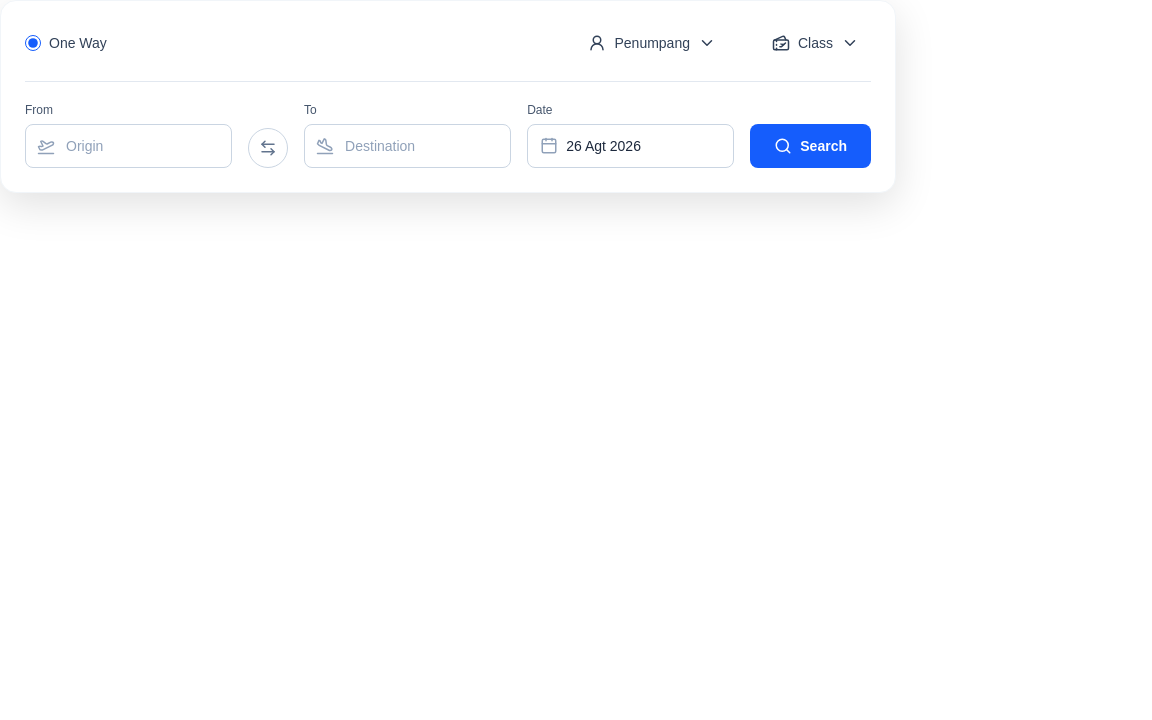
Scenario: InputFlight (flight) › opens the passenger panel and closes it via the backdrop
Expected: the text "Atur Penumpang" is not shown
Click the button "Penumpang": {"x": 652, "y": 43} [576,25,728,61]
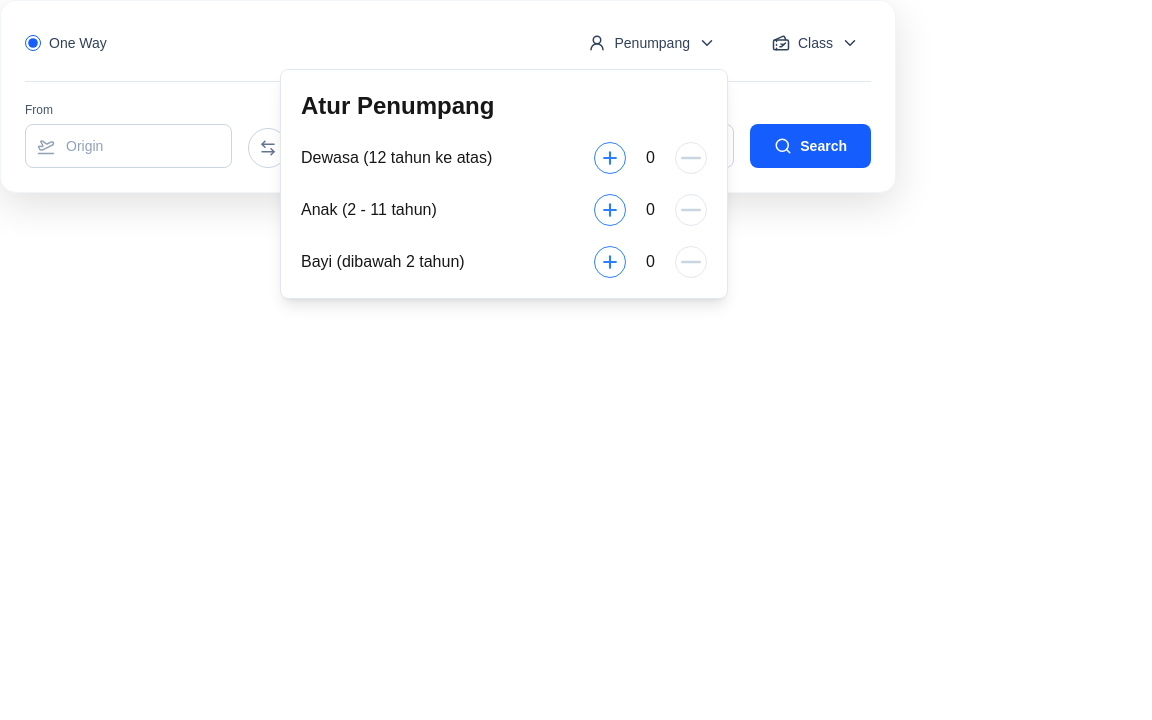
Expected: the text "Atur Penumpang" is shown, [301,90,494,122]
Click the element with class "z-10": {"x": 576, "y": 360} [0,0,1151,719]
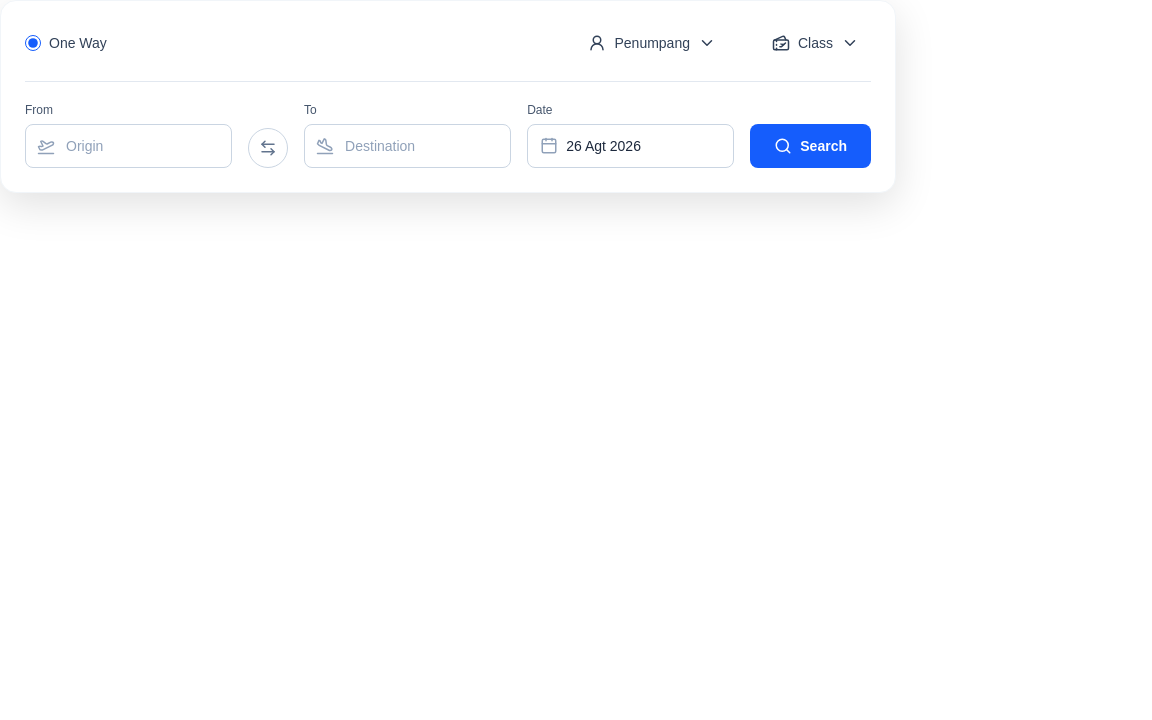
Expected: the text "Atur Penumpang" is gone
